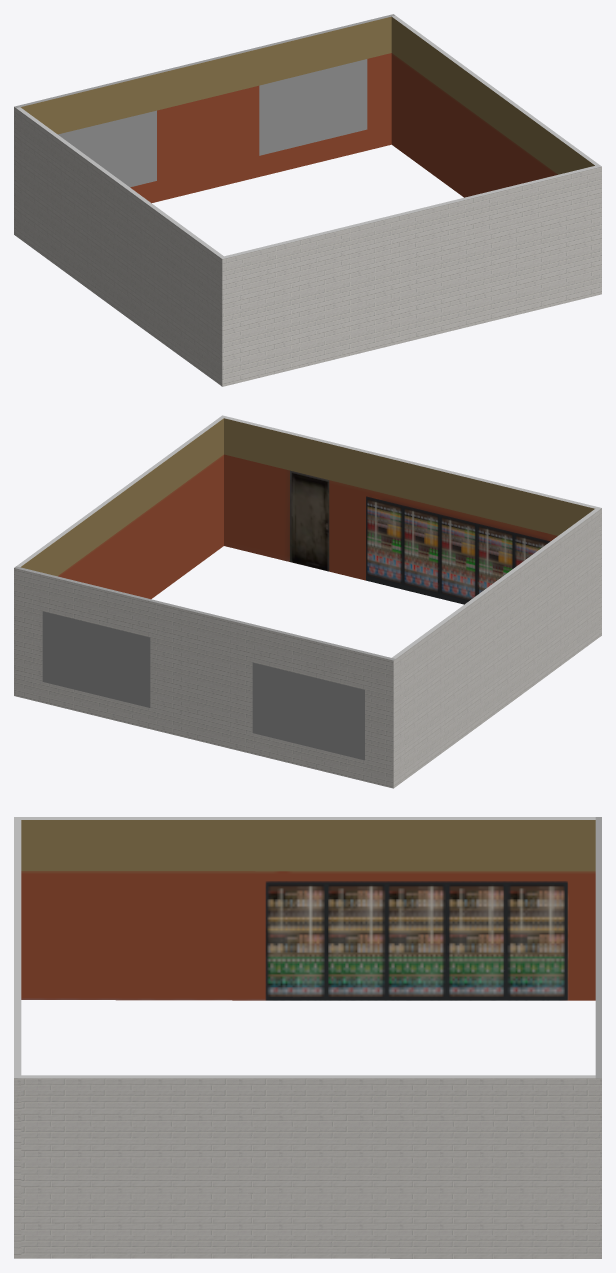
File: StoreFinished.fbx
3 renders of one model, top to bottom at view 1: azimuth 30°, elevation 25°; view 2: azimuth 150°, elevation 25°; view 3: azimuth 270°, elevation 25°, orthographic. The views are drawn at different scales.
Visible parts, largest first — view 1: wall_drinksWithDoor; view 2: wall_drinksWithDoor; view 3: wall_drinksWithDoor.
Part boxes in pixels (box(x1,y1,x2,y2)): wall_drinksWithDoor: box(14, 14, 601, 386); wall_drinksWithDoor: box(14, 415, 601, 788); wall_drinksWithDoor: box(14, 817, 601, 1258).
Bounding box in the file's own units: 76.29 × 24.6 × 72.55.
